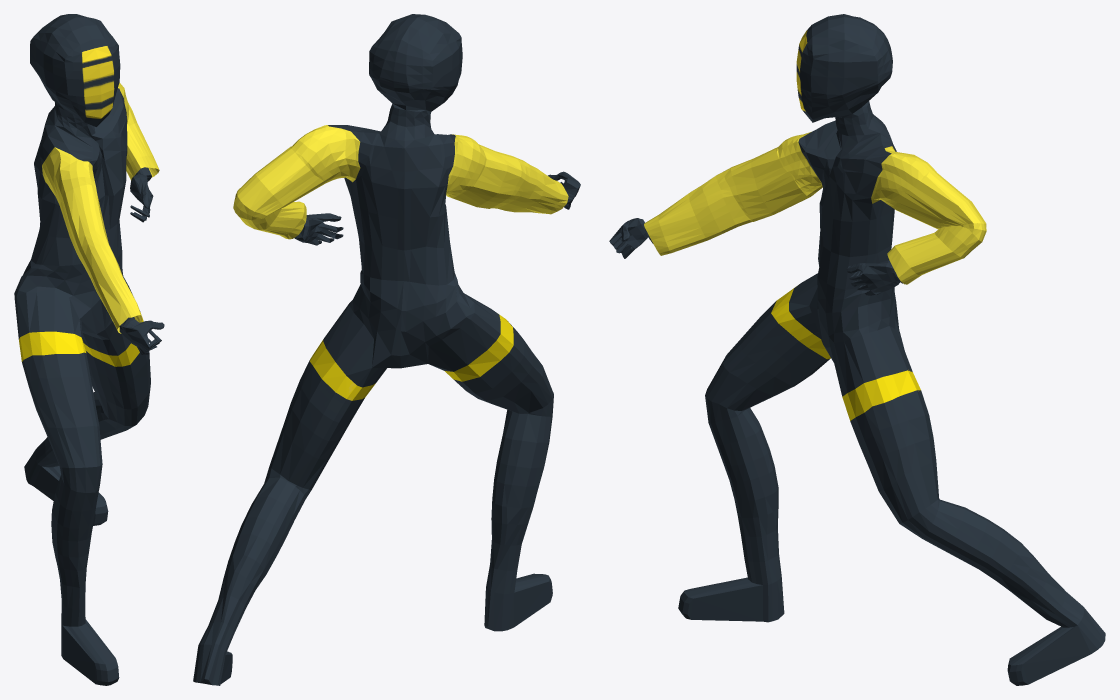
Rendered from Sentry_WR_000017.obj.
The picture shows the model from 3 angles, left to right: view 1: azimuth 30°, elevation 25°; view 2: azimuth 150°, elevation 25°; view 3: azimuth 270°, elevation 25°; orthographic projection. The views are drawn at different scales.
Visible parts, largest first — view 1: Cube; view 2: Cube; view 3: Cube.
Part boxes in pixels (x1,y1,x2,y2): Cube: (14, 14, 164, 685); Cube: (193, 14, 580, 685); Cube: (609, 14, 1105, 685).
Size of the model in its own units: 1.19 by 3.59 by 2.61.
